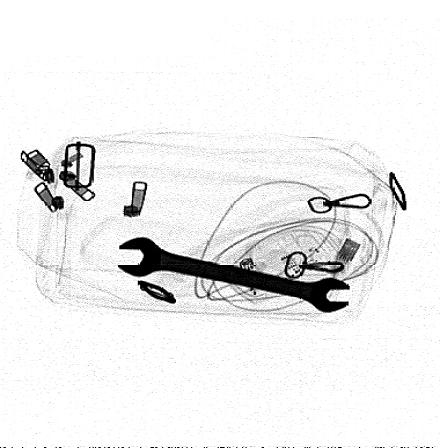Wrench: (117, 236, 352, 313)
